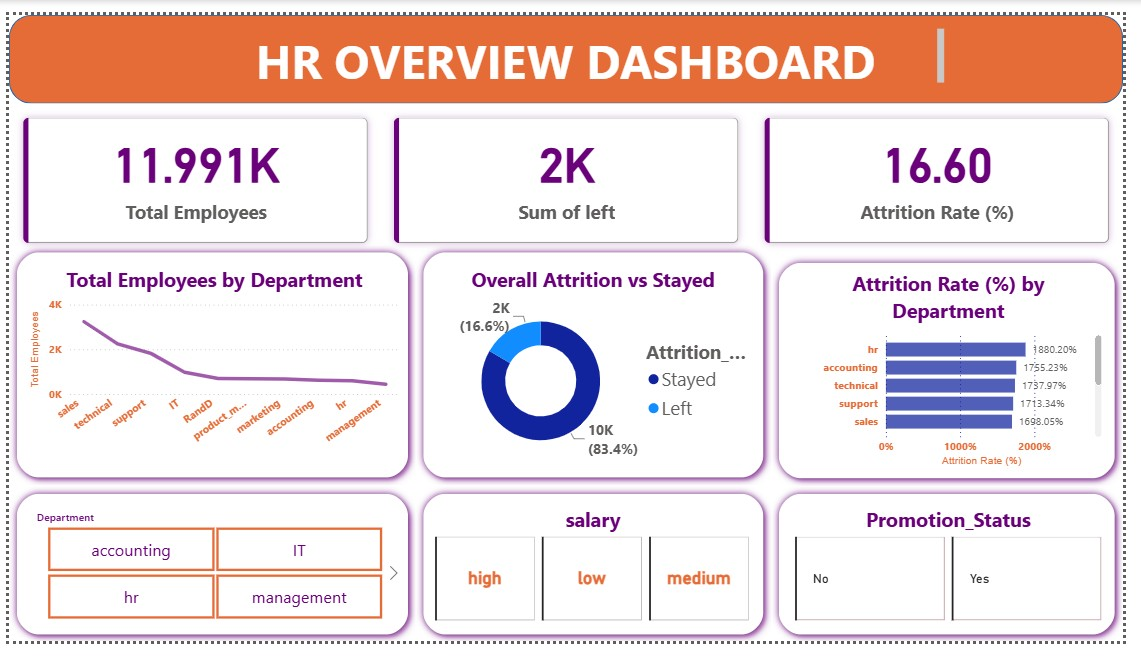

What the dashboard file says about the page in this screenshot:
{"tool":"powerbi","page":{"name":"HR OVERVIEW","canvas":[1280,720],"ordinal":0},"visuals":[{"type":"shape","box":[0,0,1280.4,101.8],"z":0},{"type":"textbox","box":[206.8,11.1,873.2,76.3],"z":1000},{"type":"cardVisual","fields":{"Data":["HR_cleaned.Total Employees","Sum(HR_cleaned.left)","HR_cleaned.Attrition Rate (%)"]},"box":[0,101.8,1280.4,176.6],"z":2000},{"type":"shape","box":[0,264,467.6,276.8],"z":3000},{"type":"shape","box":[467.6,264,408.8,276.8],"z":4000},{"type":"shape","box":[876.4,275.2,404,265.6],"z":5000},{"type":"donutChart","title":"Overall Attrition vs Stayed","fields":{"Y":["CountNonNull(HR_cleaned.left)"],"Category":["HR_cleaned.Attrition_Status"]},"box":[485.1,287.9,373.8,233.8],"z":6000},{"type":"lineChart","fields":{"Category":["HR_cleaned.Department"],"Y":["HR_cleaned.Total Employees"]},"box":[19.1,287.9,434.2,233.8],"z":7000},{"type":"clusteredBarChart","fields":{"Category":["HR_cleaned.Department"],"Y":["HR_cleaned.Attrition Rate (%)"]},"box":[898.7,292.7,362.7,230.6],"z":8000},{"type":"shape","box":[0,540.8,467.6,179.7],"z":9000},{"type":"slicer","fields":{"Values":["HR_cleaned.Department"]},"box":[19.1,563.1,434.2,136.8],"z":10000},{"type":"shape","box":[467.6,540.8,408.8,179.7],"z":11000},{"type":"shape","box":[876.4,540.8,404,179.7],"z":12000},{"type":"advancedSlicerVisual","fields":{"Values":["HR_cleaned.salary"]},"box":[485.1,563.1,373.8,136.8],"z":13000},{"type":"advancedSlicerVisual","fields":{"Values":["HR_cleaned.Promotion_Status"]},"box":[898.7,563.1,362.7,136.8],"z":14000}]}

Visuals, with their boxes on the page's 1280x720 design canvas (x1, y1, x2, y2). These are canvas units, not pixel positions in the 1141x663 screenshot, which may show the page scaled, cropped or inside an application window:
shape: <region>0, 0, 1280, 102</region>
textbox: <region>207, 11, 1080, 87</region>
cardVisual - HR_cleaned.Total Employees x Sum(HR_cleaned.left): <region>0, 102, 1280, 278</region>
shape: <region>0, 264, 468, 541</region>
shape: <region>468, 264, 876, 541</region>
shape: <region>876, 275, 1280, 541</region>
"Overall Attrition vs Stayed" donutChart: <region>485, 288, 859, 522</region>
lineChart - HR_cleaned.Department x HR_cleaned.Total Employees: <region>19, 288, 453, 522</region>
clusteredBarChart - HR_cleaned.Department x HR_cleaned.Attrition Rate (%): <region>899, 293, 1261, 523</region>
shape: <region>0, 541, 468, 720</region>
slicer - HR_cleaned.Department: <region>19, 563, 453, 700</region>
shape: <region>468, 541, 876, 720</region>
shape: <region>876, 541, 1280, 720</region>
advancedSlicerVisual - HR_cleaned.salary: <region>485, 563, 859, 700</region>
advancedSlicerVisual - HR_cleaned.Promotion_Status: <region>899, 563, 1261, 700</region>
